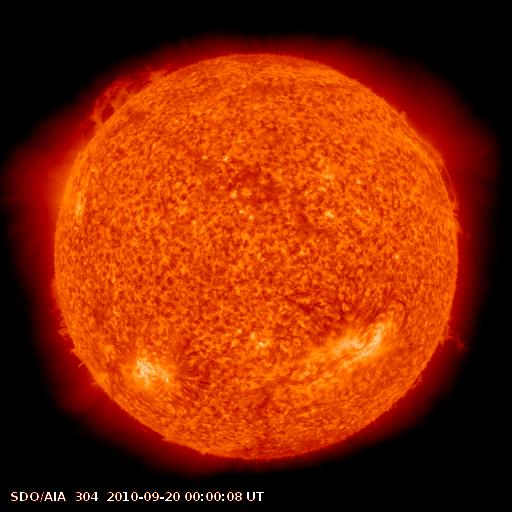prominence: (403, 115, 477, 242), (82, 55, 182, 140), (41, 271, 92, 373), (429, 318, 477, 363)
